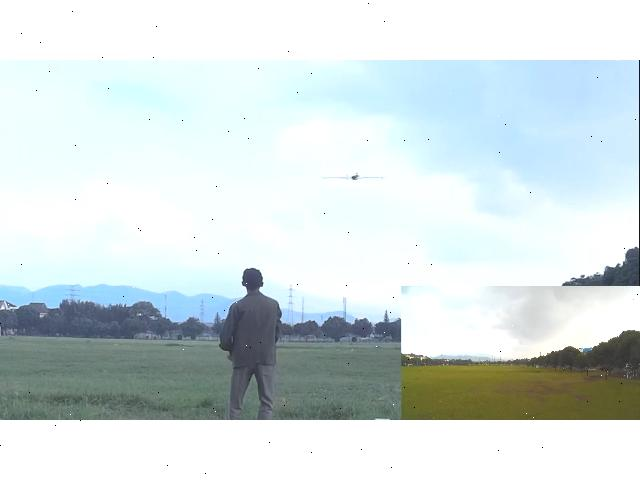Anti-Drone: (320, 170, 388, 184)
